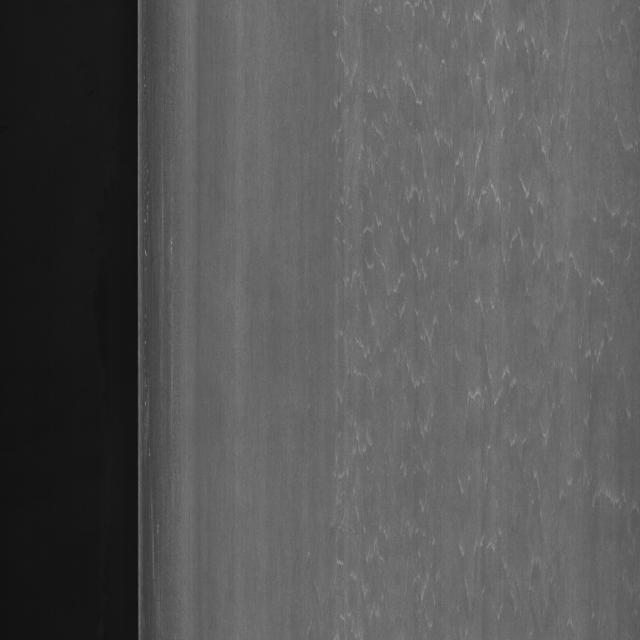inclusion: (326, 22, 630, 630)
